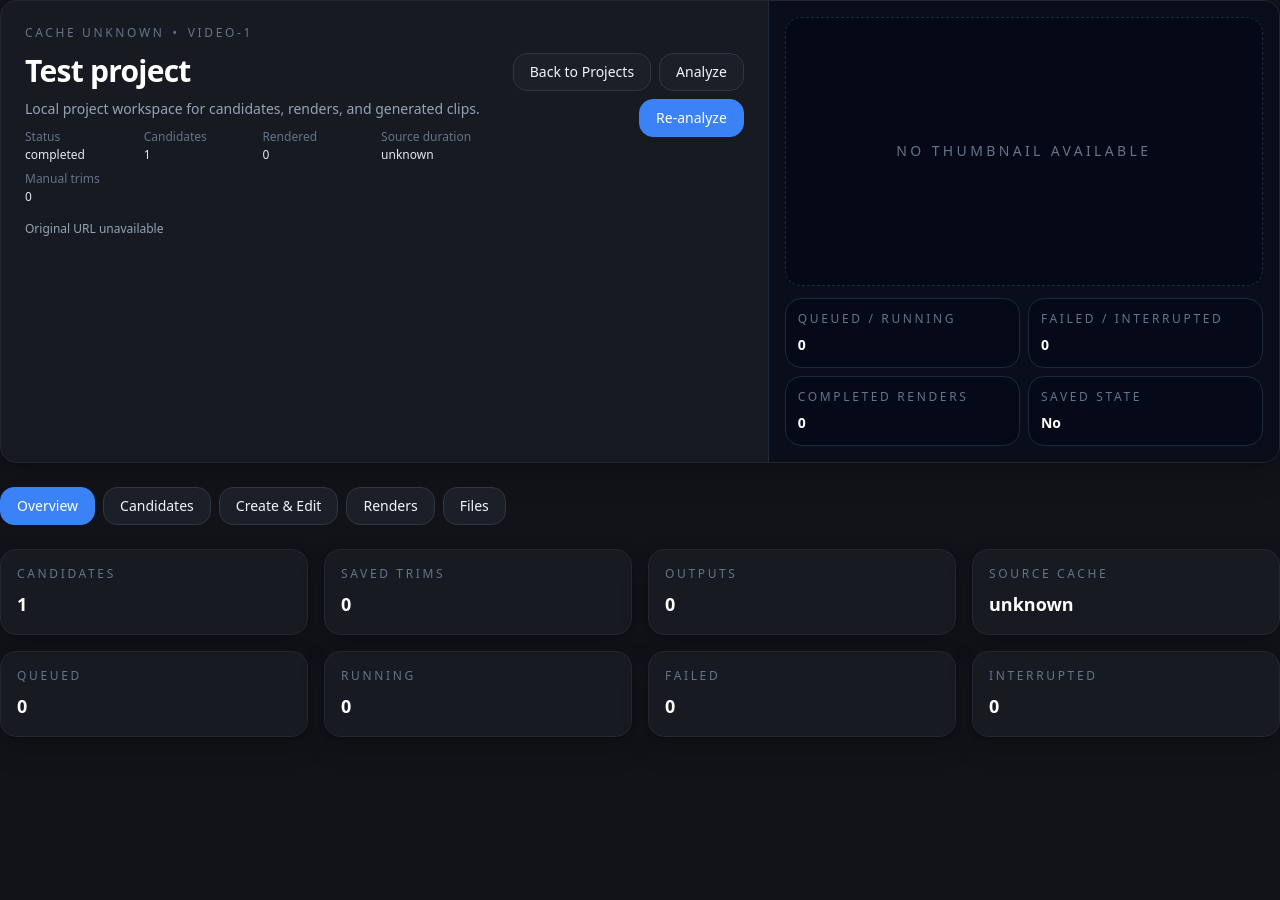
Test: ProjectWorkspacePage tools › provides a dedicated tools tab with keyboard-focusable links to each feature
Check: the heading "Test project" is shown, box [25,50,191,91]
Click the button "Create & Edit": (279, 506) [219,487,338,525]
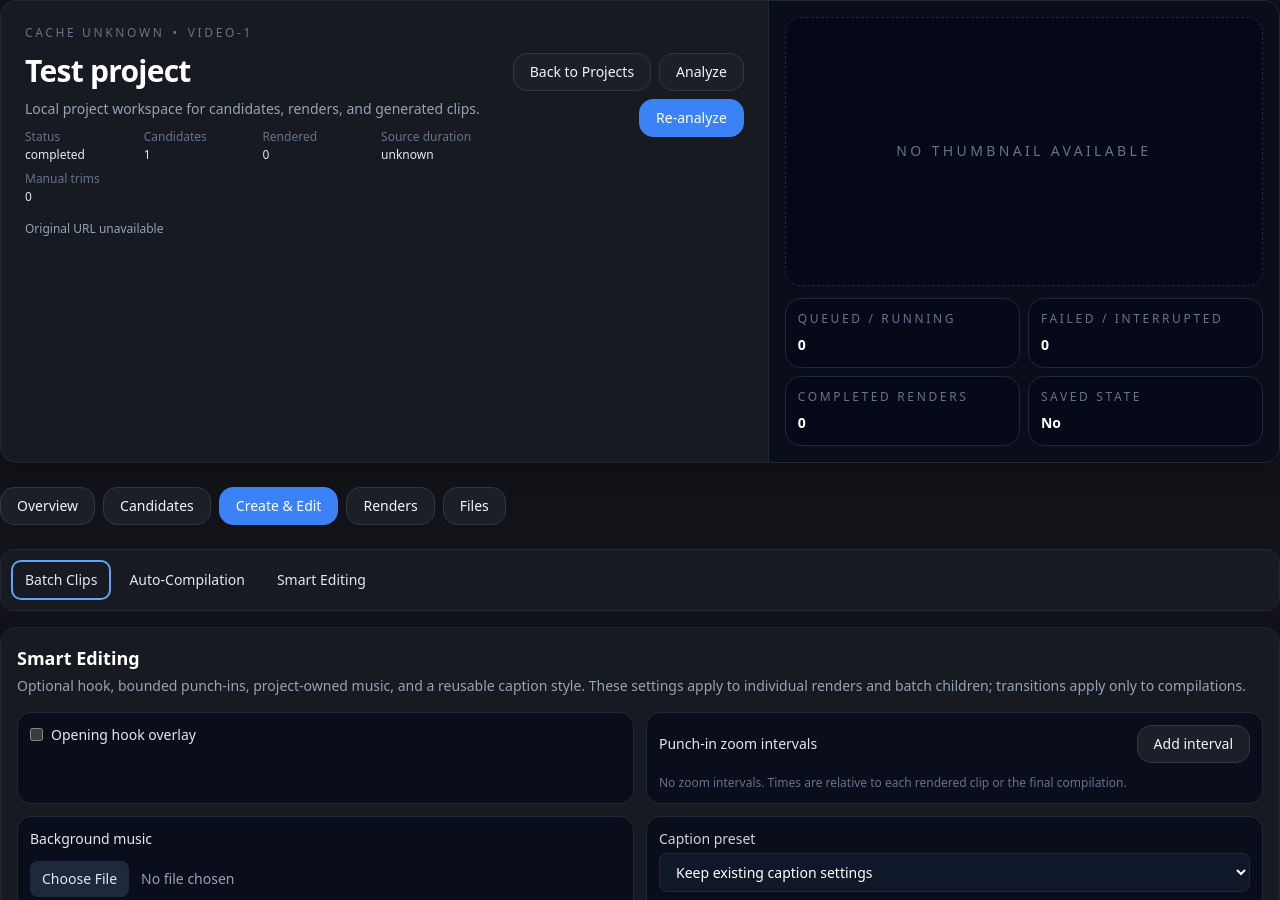
Check: the link "Batch Clips" is shown, box [13,562,109,598]
Check: the link "Auto-Compilation" is shown, box [129,570,245,589]
Check: the link "Smart Editing" is shown, box [277,570,366,589]
